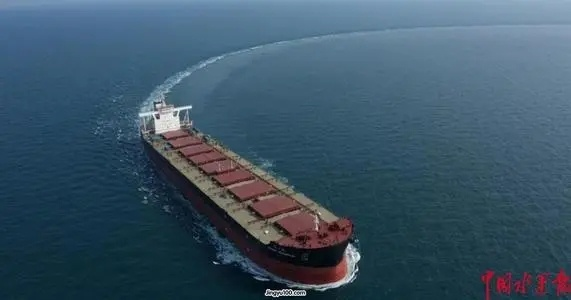Cargoship: (131, 96, 354, 288)
